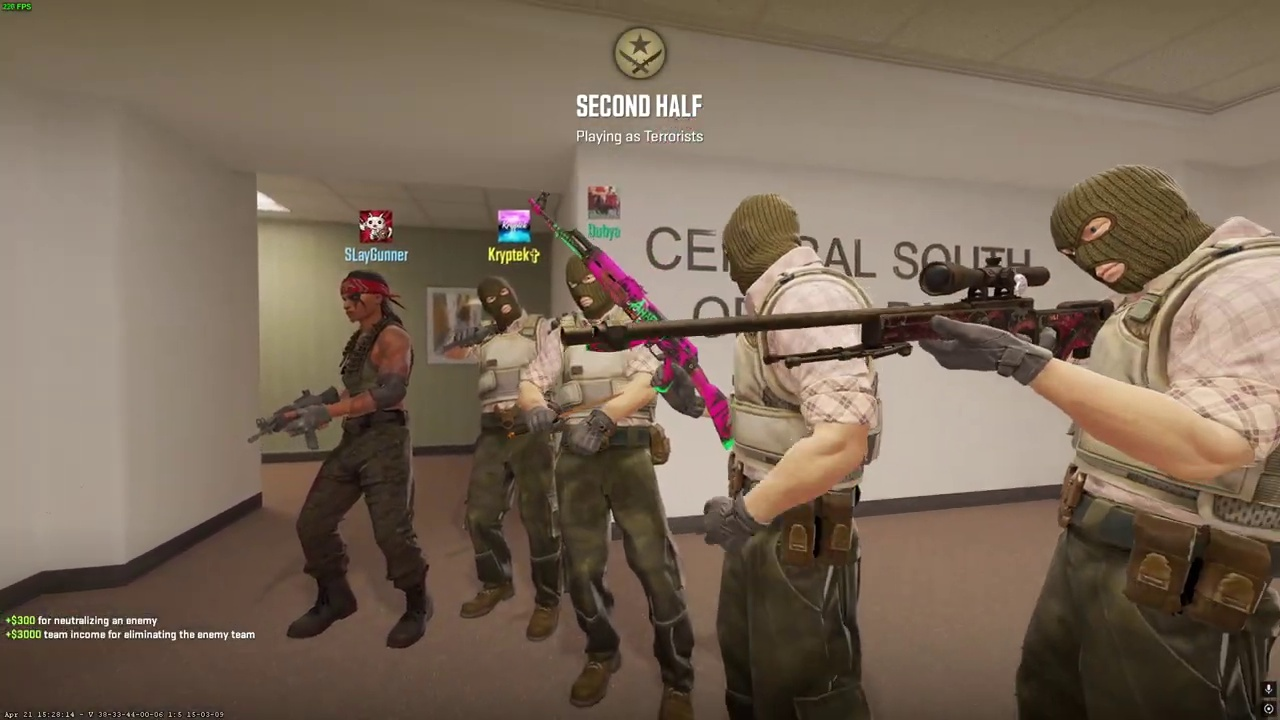Terrorist: (998, 162, 1280, 719), (693, 192, 883, 720), (540, 248, 694, 720), (282, 268, 433, 651), (443, 273, 552, 643)
